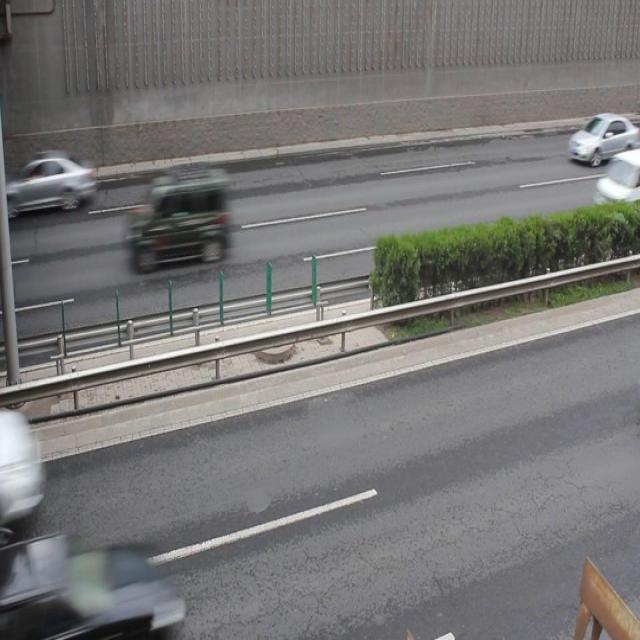car: (126, 168, 231, 270), (14, 149, 96, 214), (566, 110, 640, 167)
